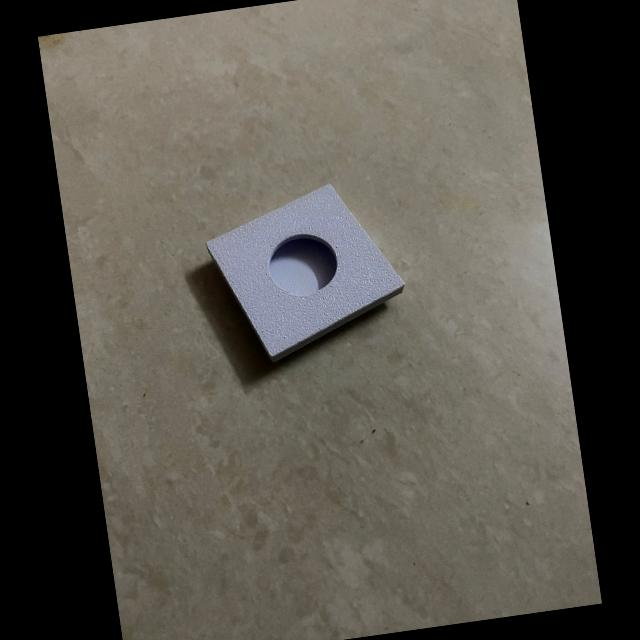RASPBERY PI CAM ENCLOSURE: (199, 175, 413, 370)
